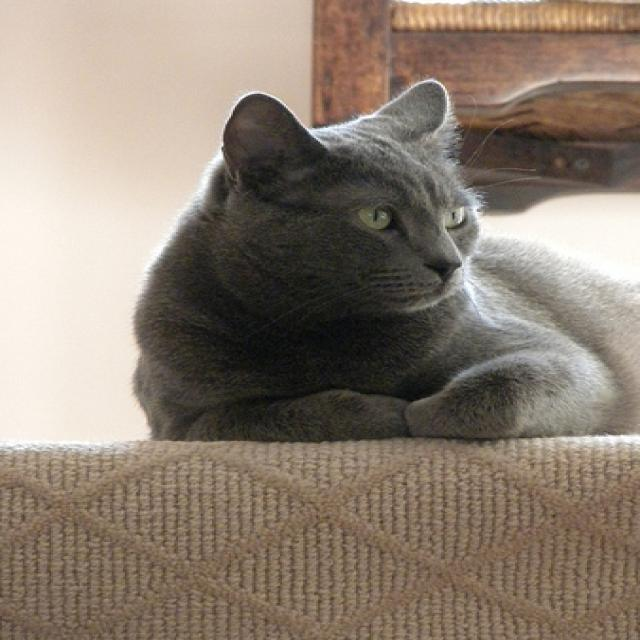Russian Blue: (121, 71, 640, 450)
